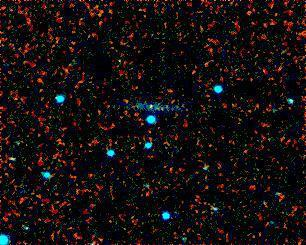star: (134, 90, 164, 120)
